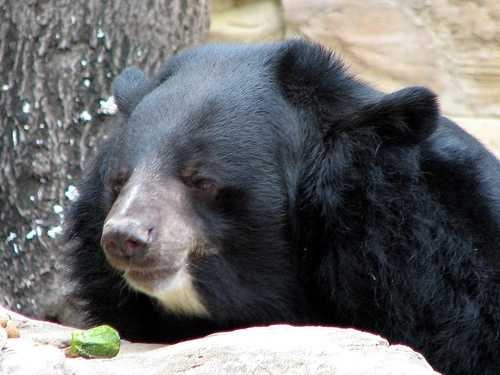bear: (92, 161, 220, 289), (240, 28, 368, 156), (106, 44, 234, 172)
